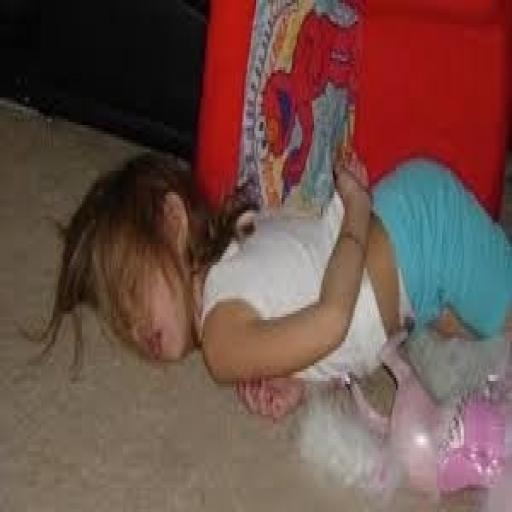sleeping: (32, 143, 510, 390)
